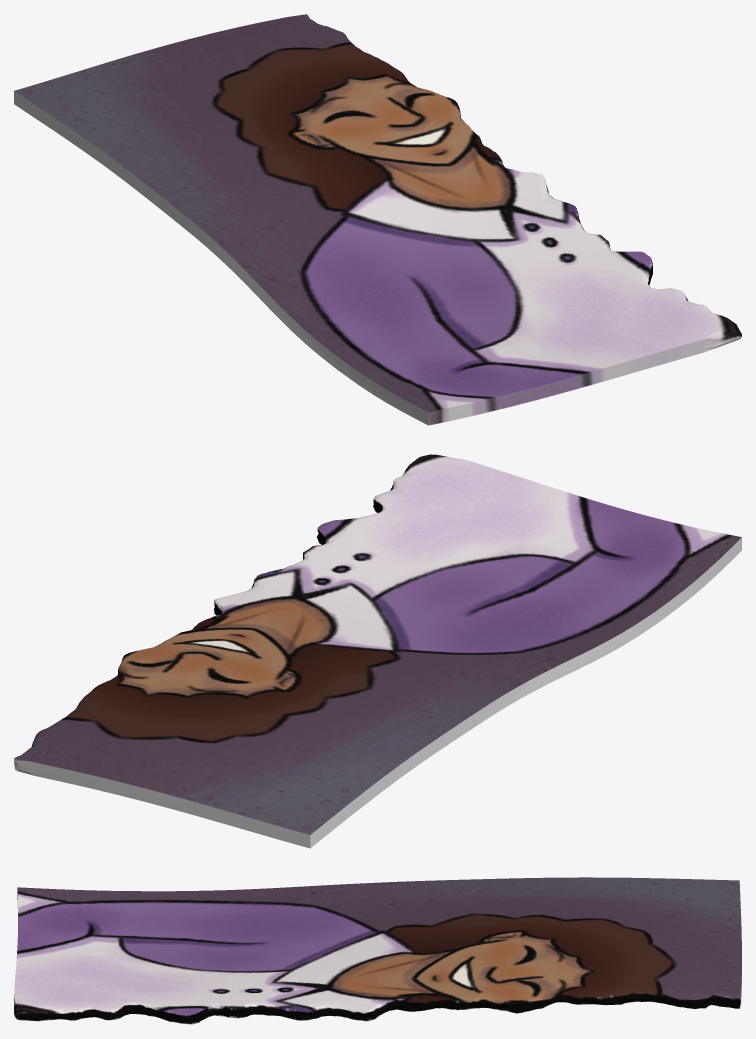
Rendered from Folhas.obj.
3 views of the same model, one above another, from view 1: azimuth 30°, elevation 25°; view 2: azimuth 150°, elevation 25°; view 3: azimuth 270°, elevation 25° (orthographic). The views are drawn at different scales.
Visible parts, largest first — view 1: Folha1; view 2: Folha1; view 3: Folha1.
Boxes of the visible parts, x1=… form: Folha1: x1=14, y1=14, x2=741, y2=425; Folha1: x1=14, y1=454, x2=741, y2=848; Folha1: x1=14, y1=877, x2=741, y2=1024.
Bounding box in the file's own units: 0.4427 × 0.0629 × 1.
Materials: 1 (1 with a texture image).
